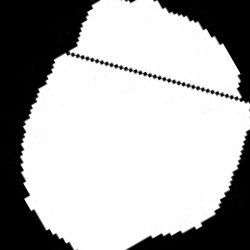spot: (21, 3, 247, 247)
